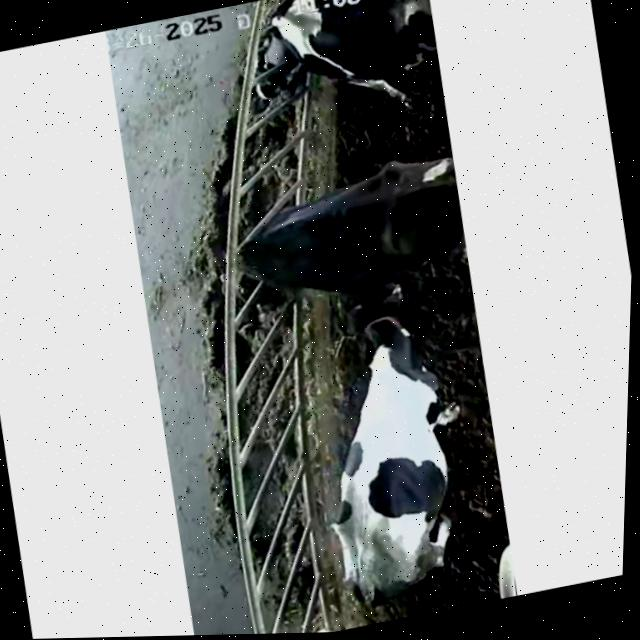eat: (156, 176, 349, 315), (182, 0, 382, 128)
